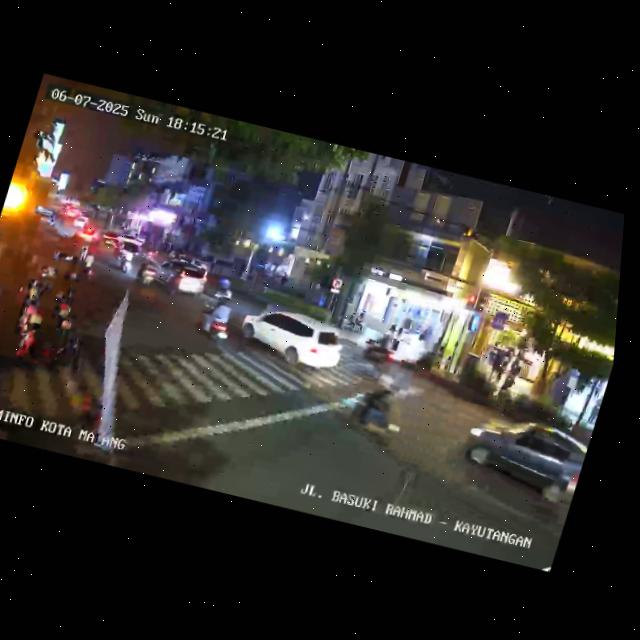car: (450, 404, 594, 513), (229, 301, 352, 380), (150, 257, 212, 302), (174, 255, 209, 272), (120, 233, 135, 244), (72, 217, 86, 228), (67, 210, 76, 218)
motorcycle: (324, 364, 417, 455), (189, 293, 240, 352), (358, 328, 400, 367), (202, 277, 235, 316), (133, 257, 161, 290), (159, 266, 186, 300), (112, 245, 138, 277), (78, 251, 100, 284), (140, 239, 157, 261)
person: (486, 350, 503, 384), (586, 396, 603, 427), (381, 323, 398, 354), (389, 327, 404, 357), (493, 358, 507, 387), (352, 310, 369, 332), (345, 308, 360, 330)
